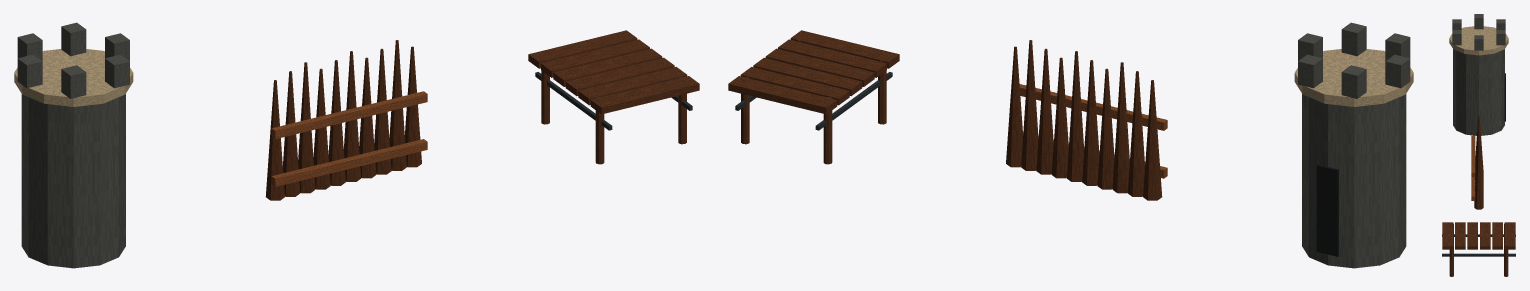
Rendered from KIT_war_current_harbor.gltf.
3 views of the same model, side by side, from view 1: azimuth 30°, elevation 25°; view 2: azimuth 150°, elevation 25°; view 3: azimuth 270°, elevation 25° (orthographic). The views are drawn at different scales.
Parts seen in each view (by area): view 1: 01_tower, 02_palisade, 03_pier; view 2: 01_tower, 02_palisade, 03_pier; view 3: 01_tower, 03_pier, 02_palisade.
Boxes of the visible parts, x1,y1,x2,y2 form: 01_tower: (14, 22, 133, 268); 02_palisade: (265, 40, 427, 200); 03_pier: (528, 30, 699, 164); 01_tower: (1294, 22, 1413, 268); 02_palisade: (1006, 40, 1167, 200); 03_pier: (728, 30, 899, 164); 01_tower: (1449, 14, 1508, 135); 03_pier: (1442, 222, 1515, 276); 02_palisade: (1471, 116, 1483, 209).
Size of the model in its own units: 13.05 by 4.19 by 2.6.
Materials: 6 (6 with a texture image).
